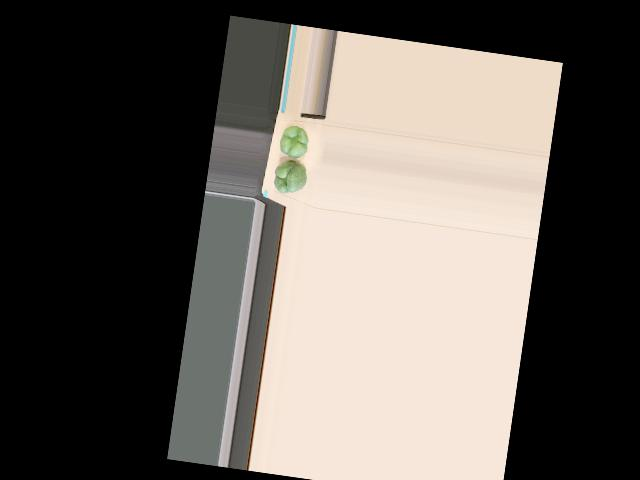bell_pepper: (277, 124, 314, 161)
